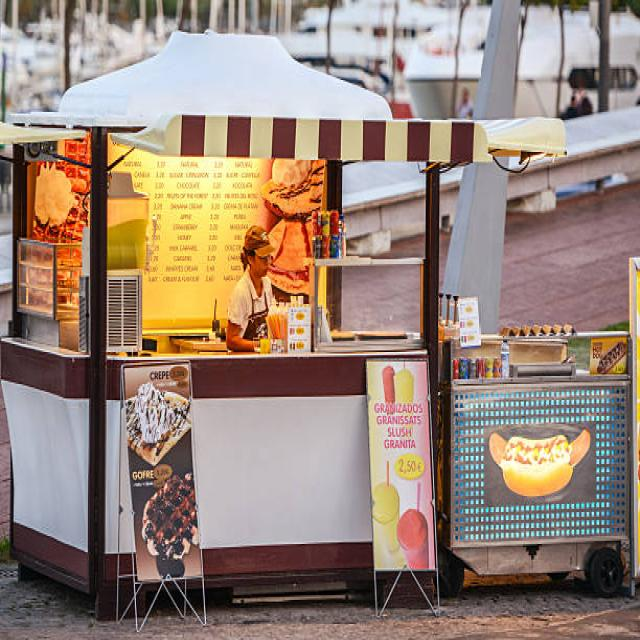Emperan: (0, 4, 581, 627)
